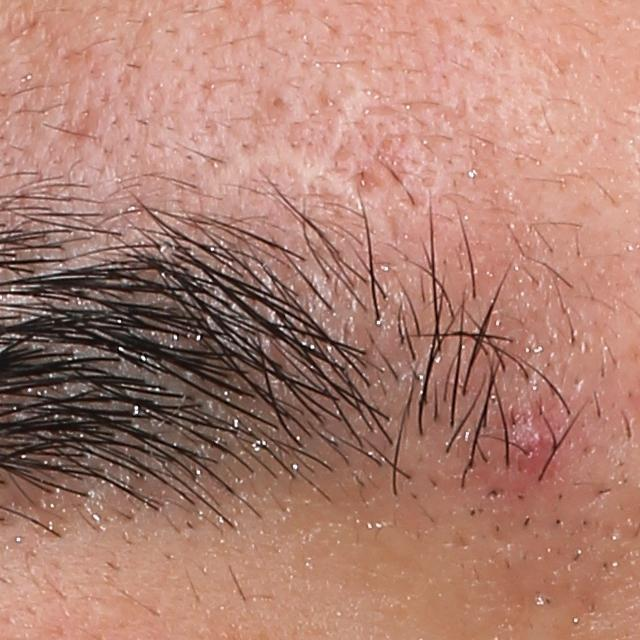atrophic_scar: (283, 84, 356, 174), (345, 167, 401, 202), (48, 116, 98, 144)
comedo: (267, 90, 291, 114)
